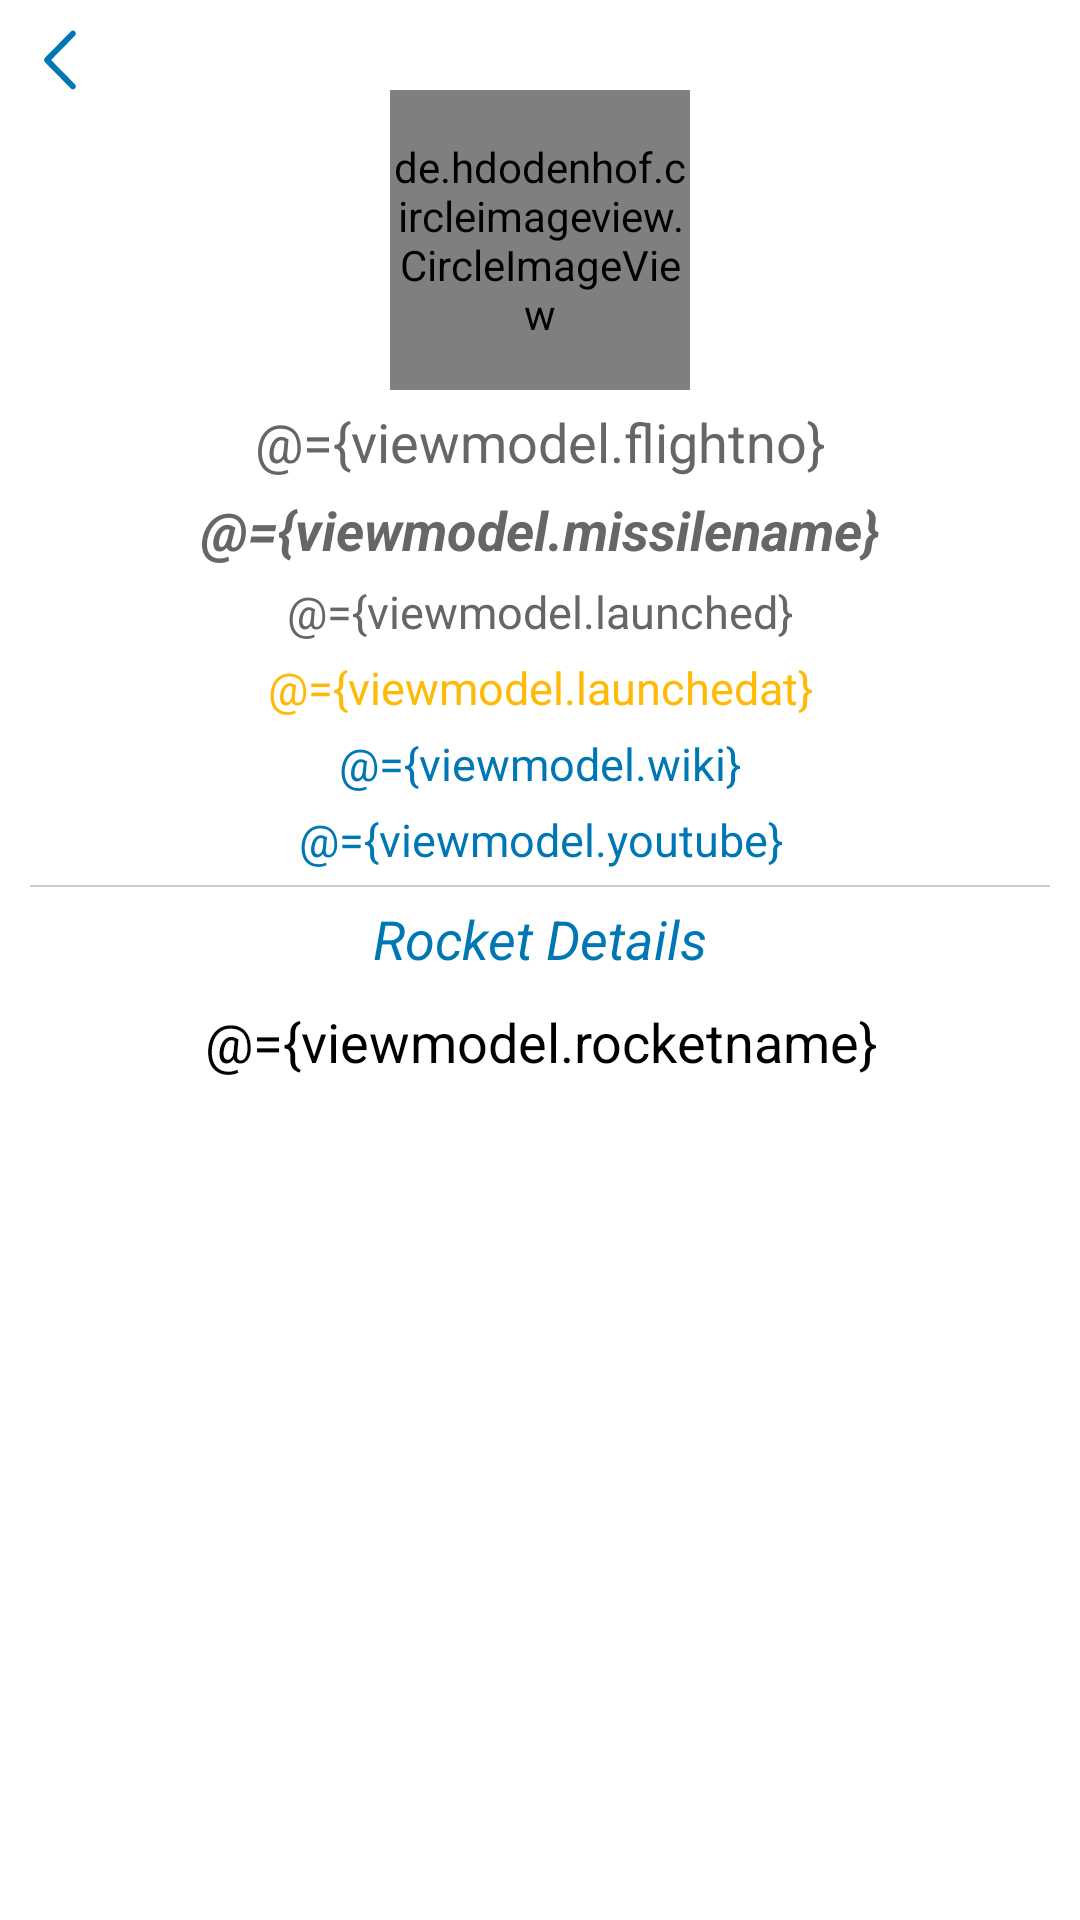

Where to tap for icons on this 1080×1920 app screen, as point (x, y):
back arrow: point (60, 60)
